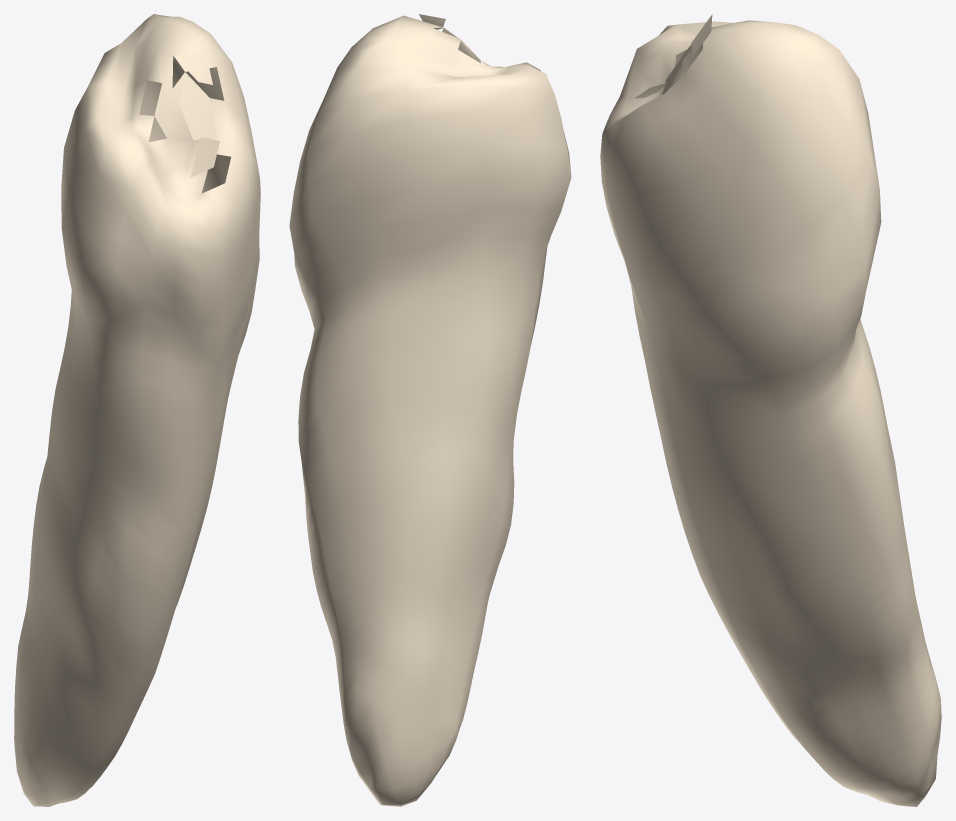
Rendered from table.fbx.
3 views of the same model, side by side, from view 1: azimuth 30°, elevation 25°; view 2: azimuth 150°, elevation 25°; view 3: azimuth 270°, elevation 25° (orthographic). The views are drawn at different scales.
Visible parts, largest first — view 1: LT-11.005; view 2: LT-11.005; view 3: LT-11.005.
Part boxes in pixels (x1,y1,x2,y2): LT-11.005: [14, 14, 260, 806]; LT-11.005: [289, 14, 571, 806]; LT-11.005: [600, 14, 941, 806].
Size of the model in its own units: 2.16 by 7.3 by 2.76.
